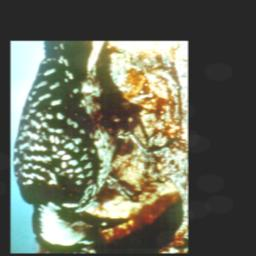Woodpecker: (13, 41, 178, 252)
